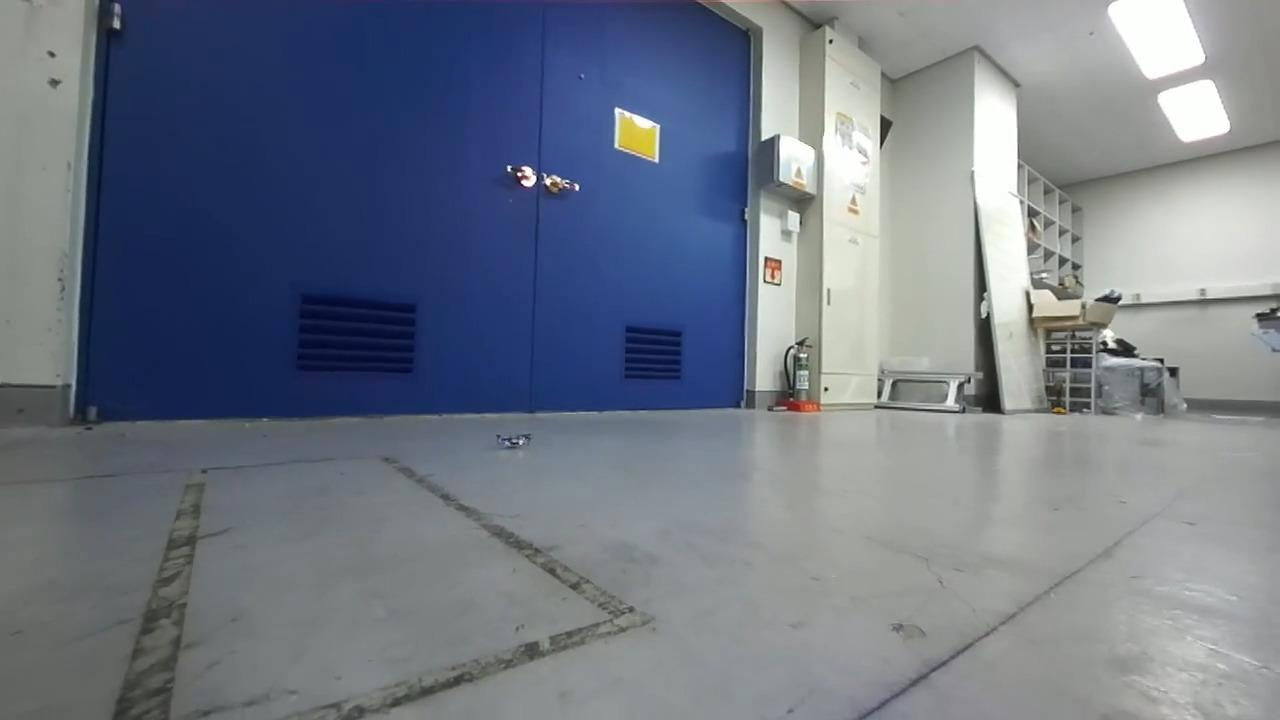crazyflie: (488, 427, 538, 457)
